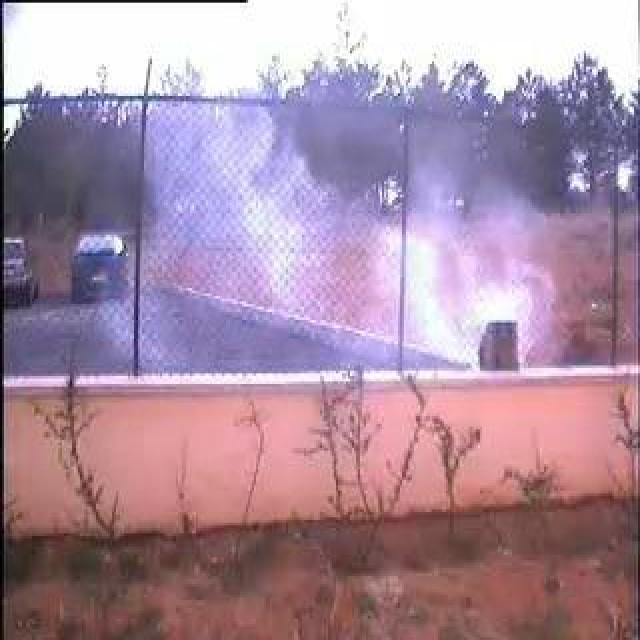Smoke: (154, 114, 526, 370)
